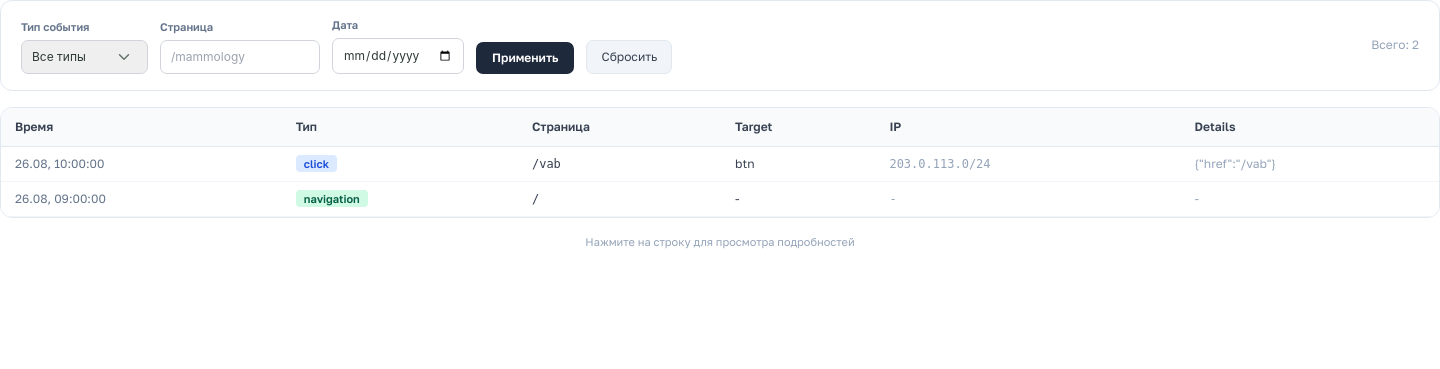
LogsViewer rows › expands the clicked log row and shows its identifiers
The width and height of the screenshot is (1440, 369).
Click the text "/vab": (546, 164) top-left (518, 146), bottom-right (721, 181)
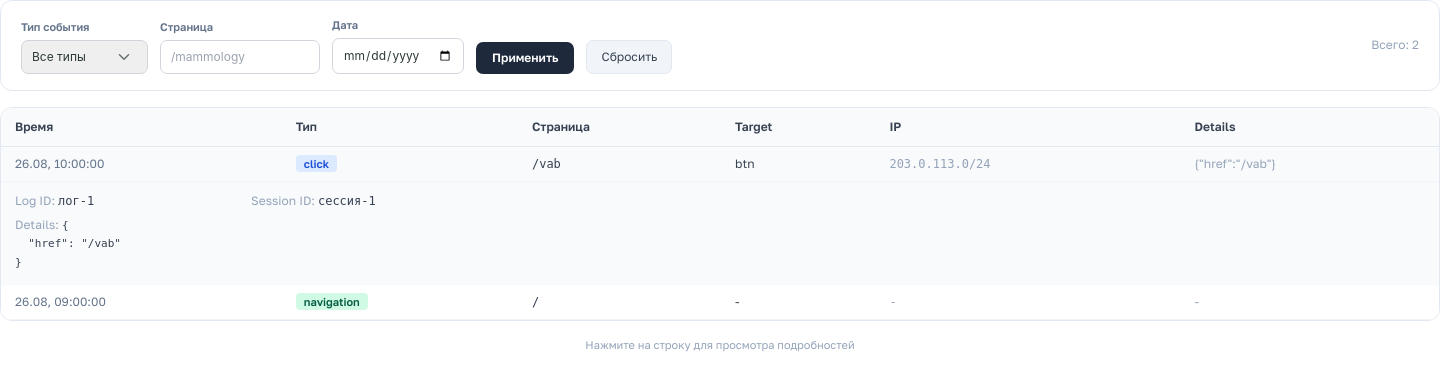
Expected: the text "лог-1" is shown, top-left (58, 194), bottom-right (94, 208)
